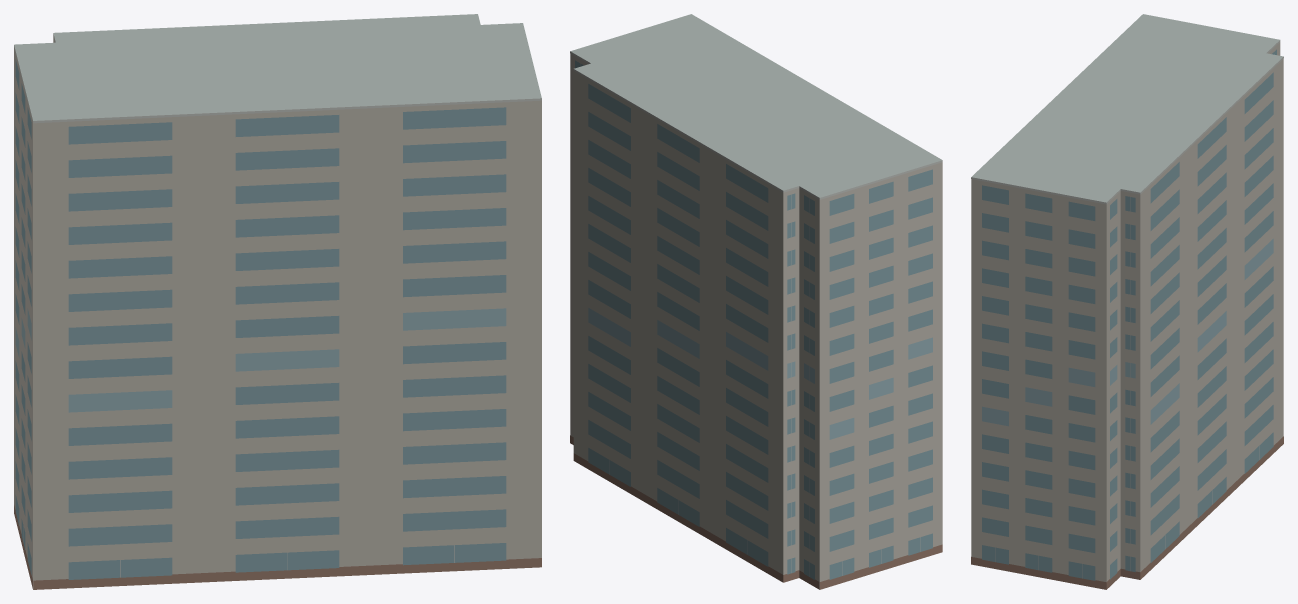
The model's file is residential-301d6581-1471-433c-b99e-9026c99d8ea9.glb.
The picture shows the model from 3 angles, left to right: view 1: azimuth 30°, elevation 25°; view 2: azimuth 150°, elevation 25°; view 3: azimuth 270°, elevation 25°; orthographic projection. The views are drawn at different scales.
Visible parts, largest first — view 1: residential-301d6581-1471-433c-b99e-9026c99d8ea9.tmp; view 2: residential-301d6581-1471-433c-b99e-9026c99d8ea9.tmp; view 3: residential-301d6581-1471-433c-b99e-9026c99d8ea9.tmp.
Part boxes in pixels (bbox=[...]): residential-301d6581-1471-433c-b99e-9026c99d8ea9.tmp: bbox=[14, 14, 541, 589]; residential-301d6581-1471-433c-b99e-9026c99d8ea9.tmp: bbox=[570, 14, 942, 589]; residential-301d6581-1471-433c-b99e-9026c99d8ea9.tmp: bbox=[971, 14, 1283, 589].
Bounding box in the file's own units: 51.17 × 49 × 35.86.
